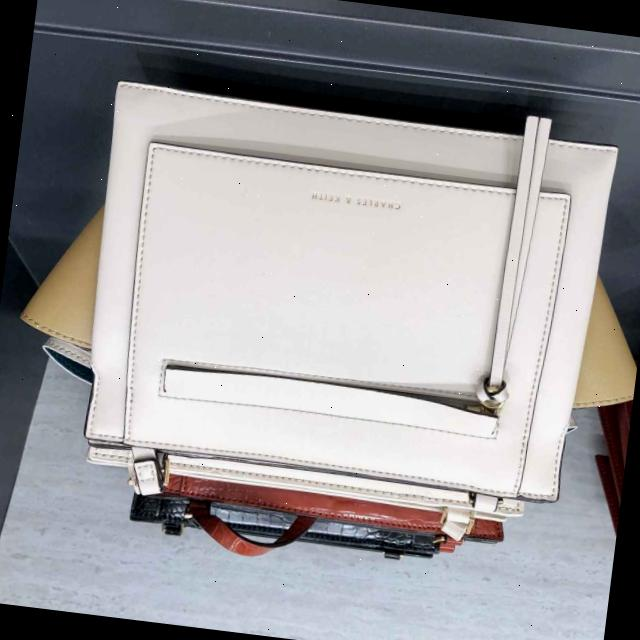handbag: (75, 80, 620, 540)
